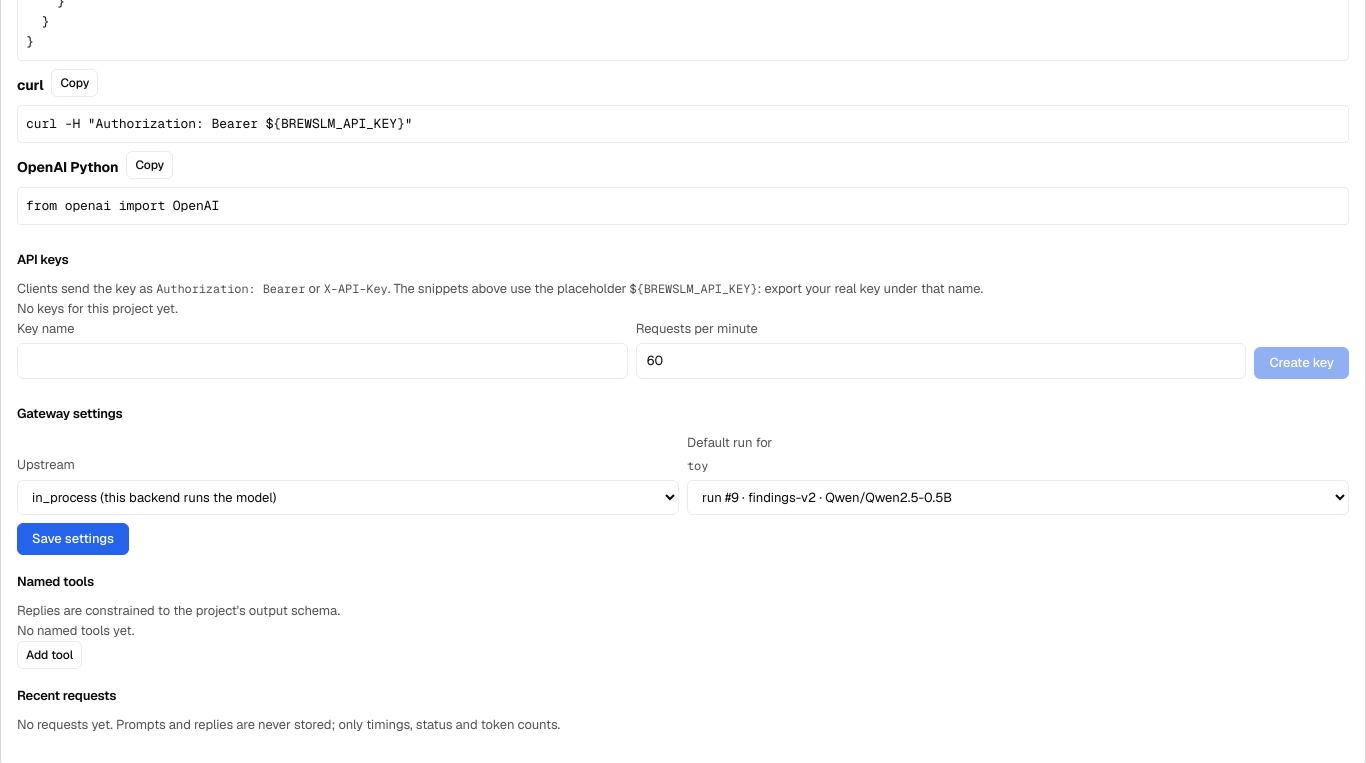
Test: GatewayCard › saves settings with PUT and renders field errors from a 400
(page scrolled)
Select "openai_compatible (vLLM, Ollama, ...)" in the dropdown with test id "gateway-upstream" at (348, 497), box [17,480,679,514]
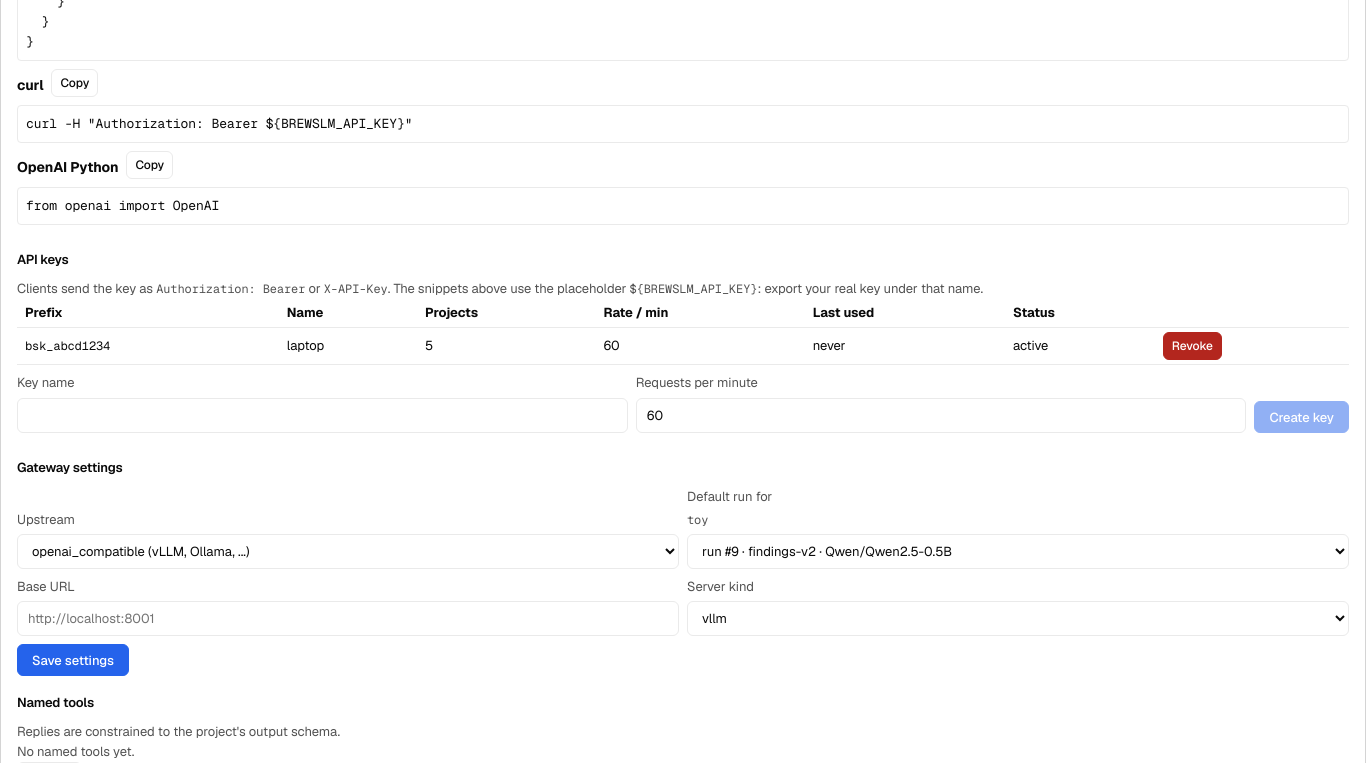
Type "nope" into the field with test id "gateway-base-url" at (348, 619), box [17,601,679,636]
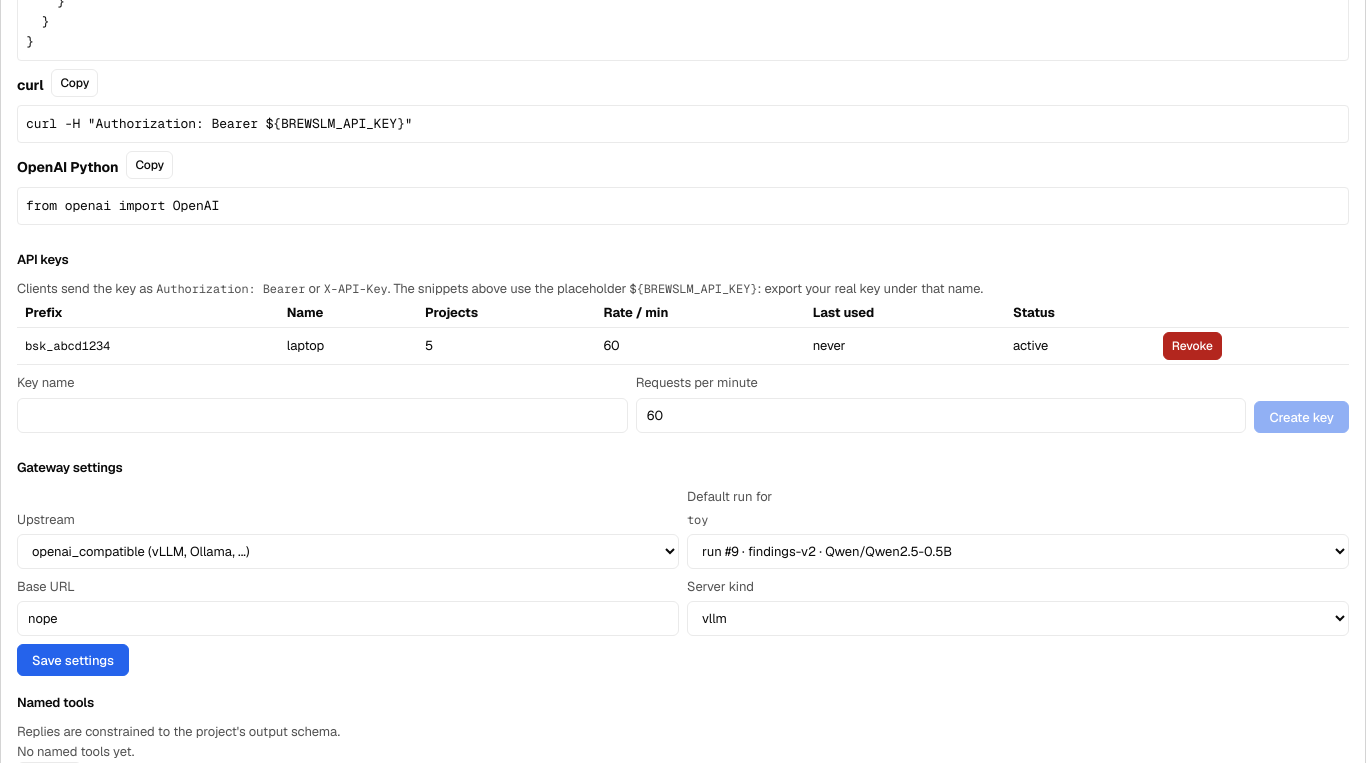
Click the button with test id "gateway-settings-save" at (73, 660), box [17,644,129,676]
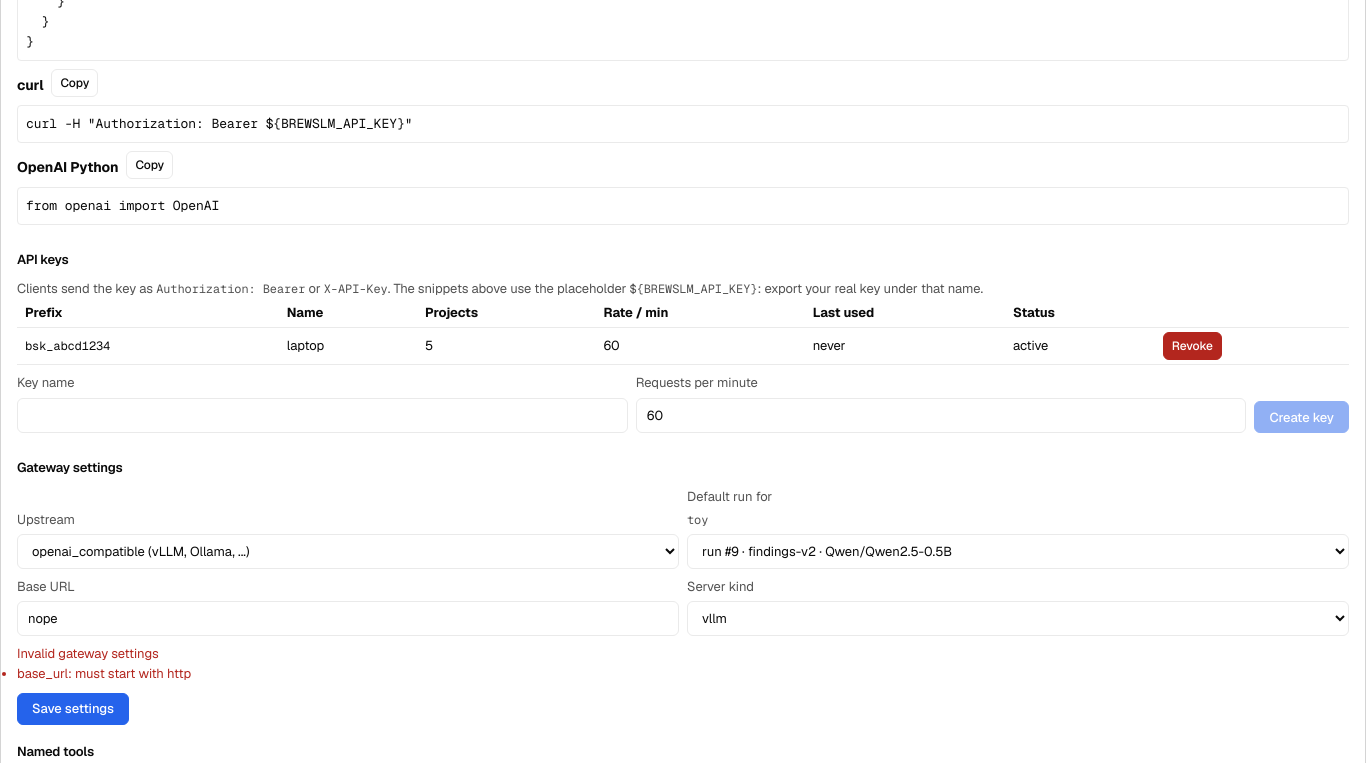
Result: the list item with test id "gateway-error-base_url" shows "must start with http" at [75,666,191,682]
